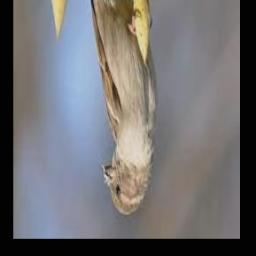Sparrow: (85, 0, 158, 216)
